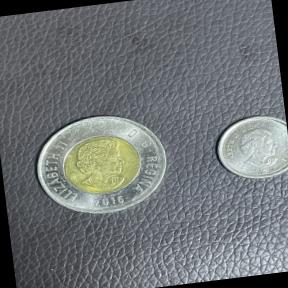coin: (23, 104, 178, 226), (207, 107, 288, 191)
